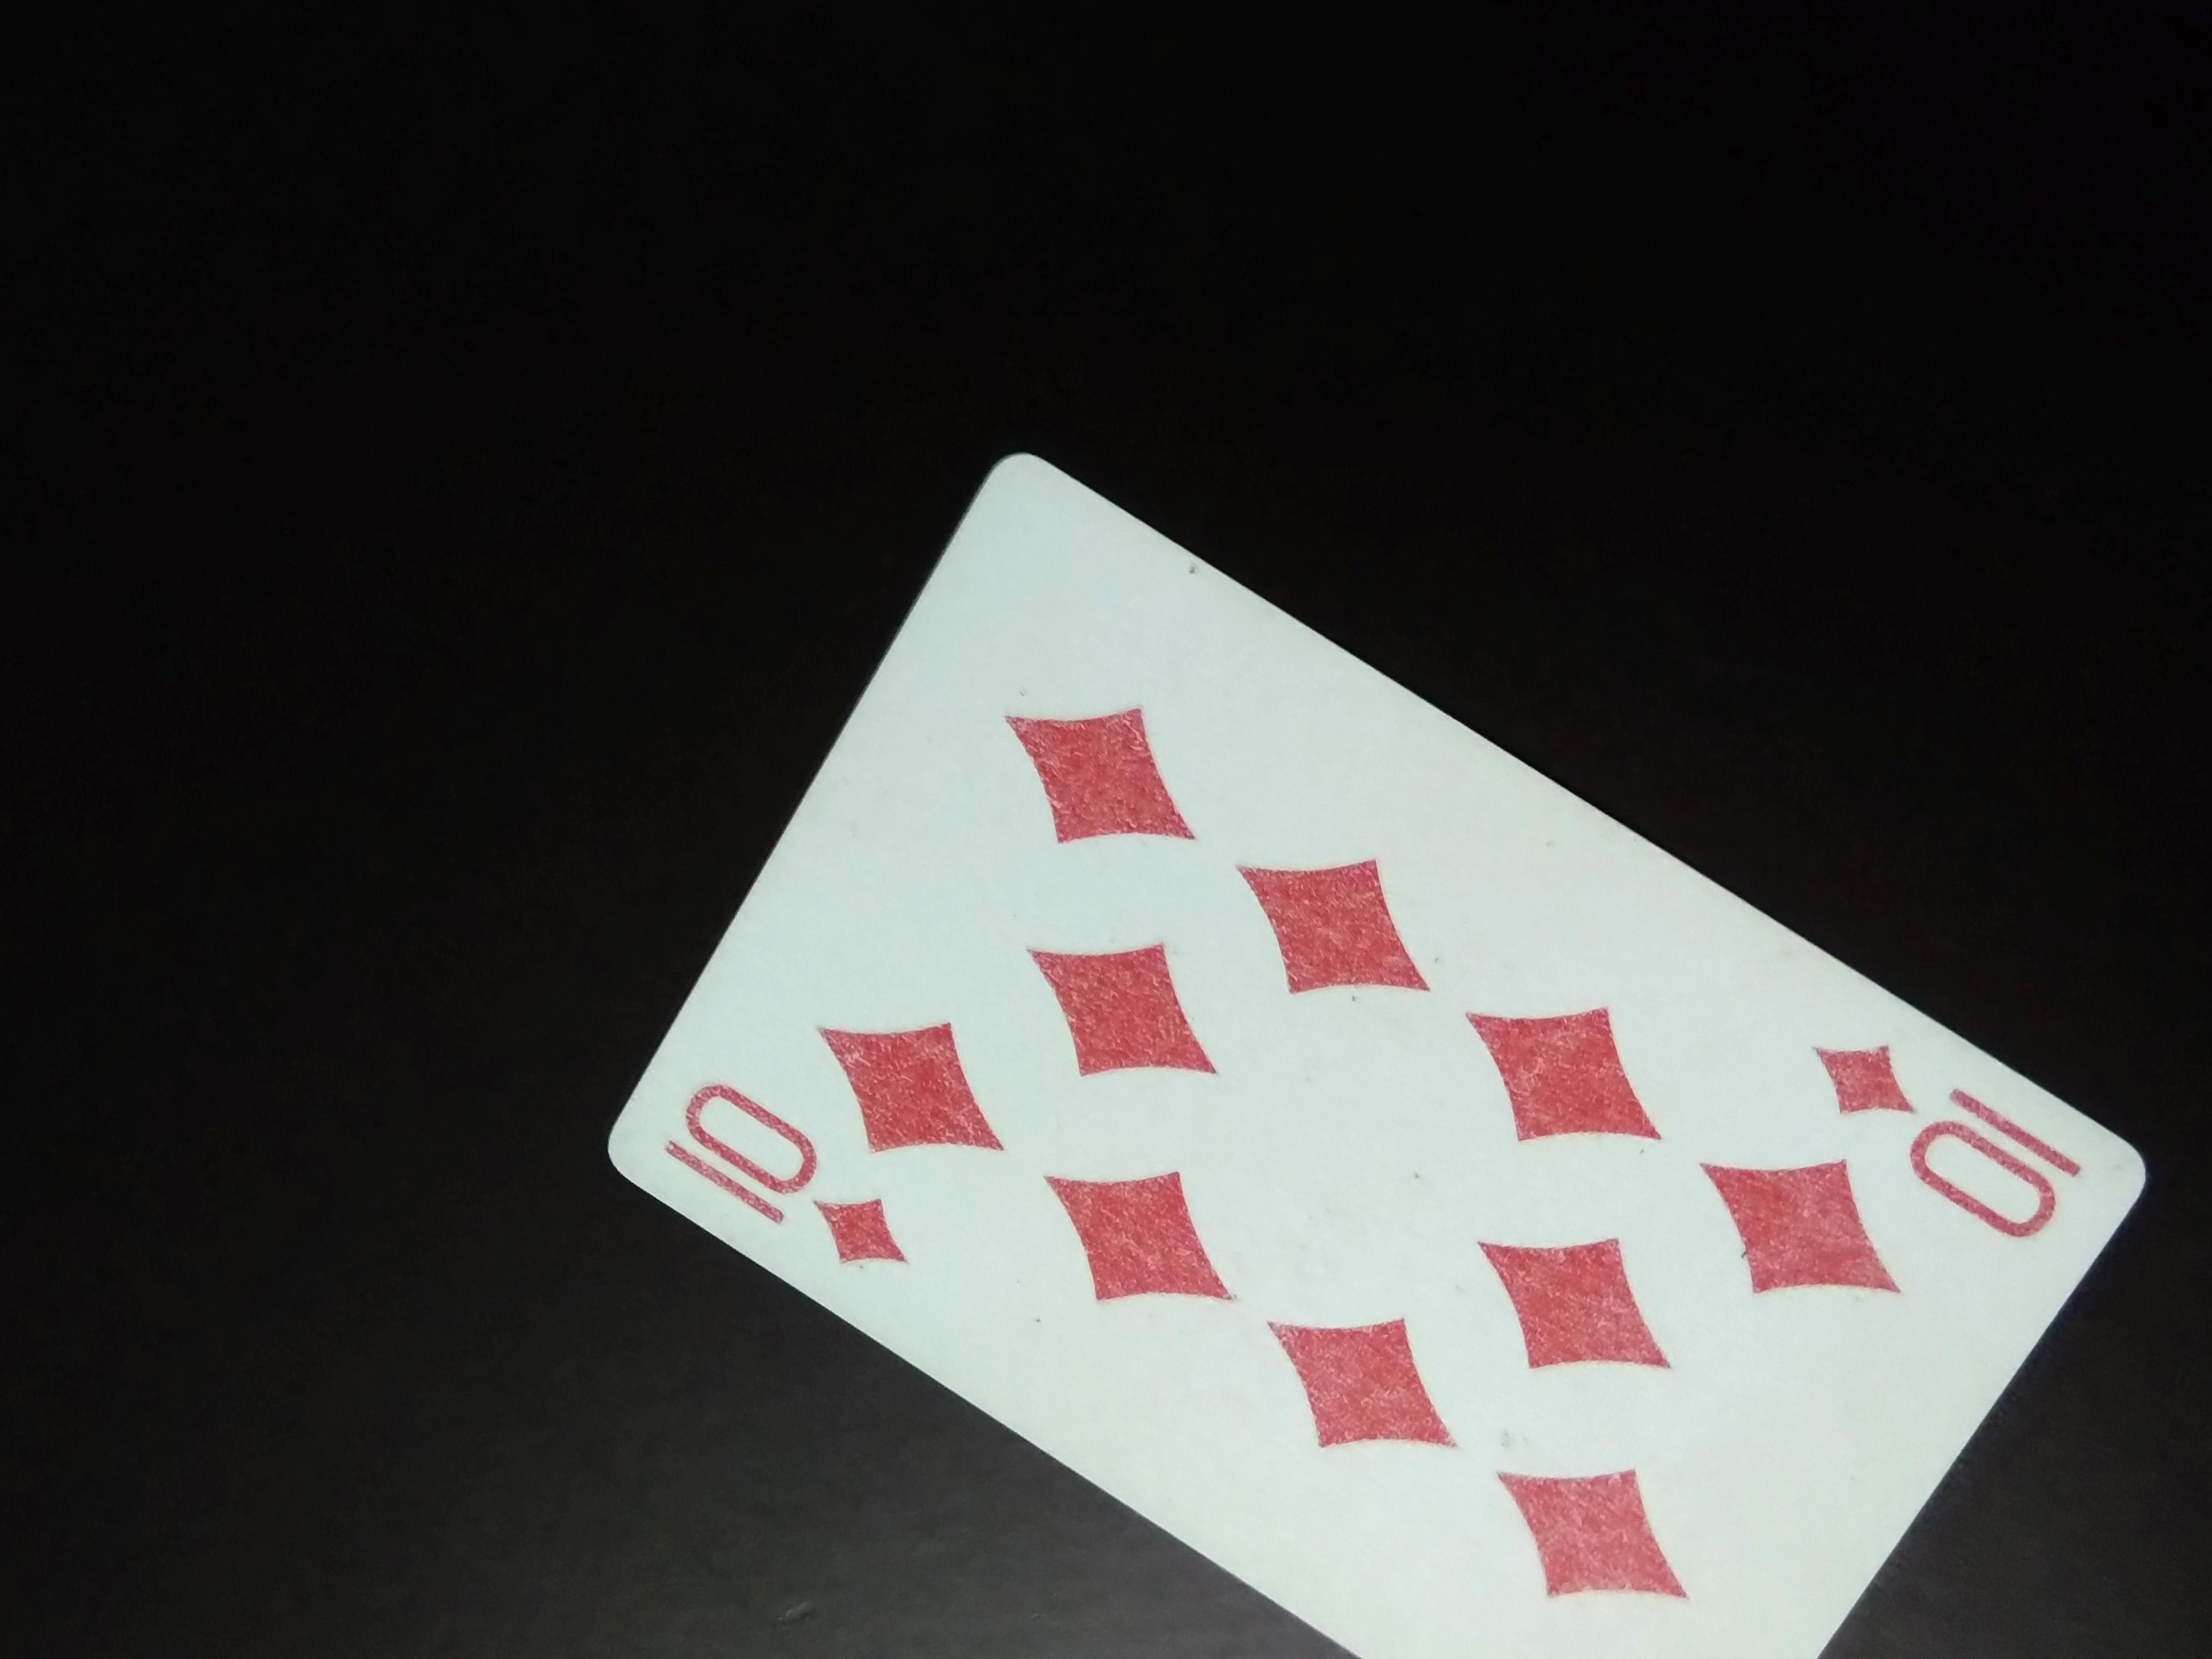10D: (655, 1072, 895, 1276)
